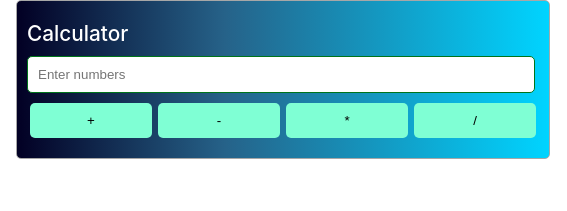
Calculator Component › calculates the sum of a single number
Type "1" into the field with placeholder "Enter numbers" at (281, 74), box [27,56,535,93]
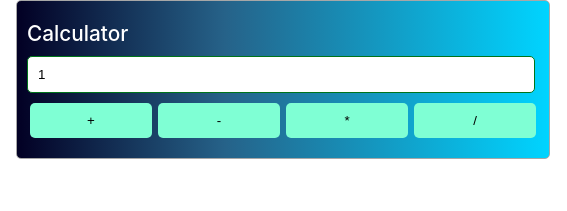
Click the button "+" at (91, 120), box [30,103,152,138]
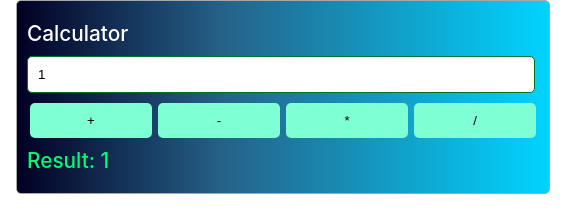
Now the text "Result: 1" is shown, box [27,148,109,173]
